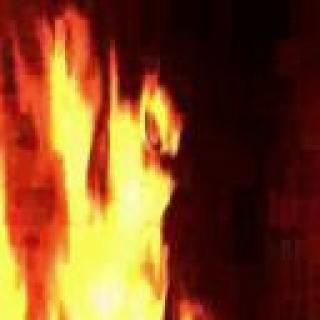fire: (0, 39, 203, 320)
